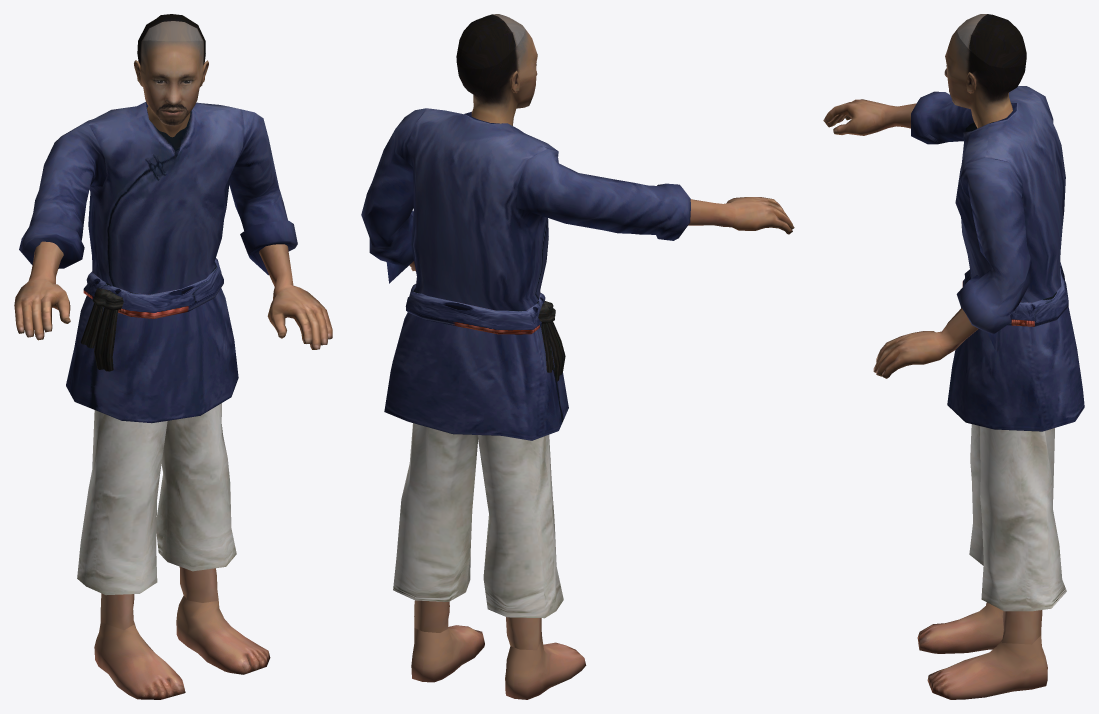
3 views of the same model, side by side, from view 1: azimuth 30°, elevation 25°; view 2: azimuth 150°, elevation 25°; view 3: azimuth 270°, elevation 25° (orthographic).
Parts seen in each view (by area): view 1: om_cn_44; view 2: om_cn_44; view 3: om_cn_44.
Boxes of the visible parts, left/top/right/bottom form: om_cn_44: left=14, top=14, right=332, bottom=699; om_cn_44: left=361, top=14, right=794, bottom=699; om_cn_44: left=823, top=14, right=1084, bottom=699.
Bounding box in the file's own units: 1.16 × 2.08 × 0.7654.
8 materials, 8 textured.
